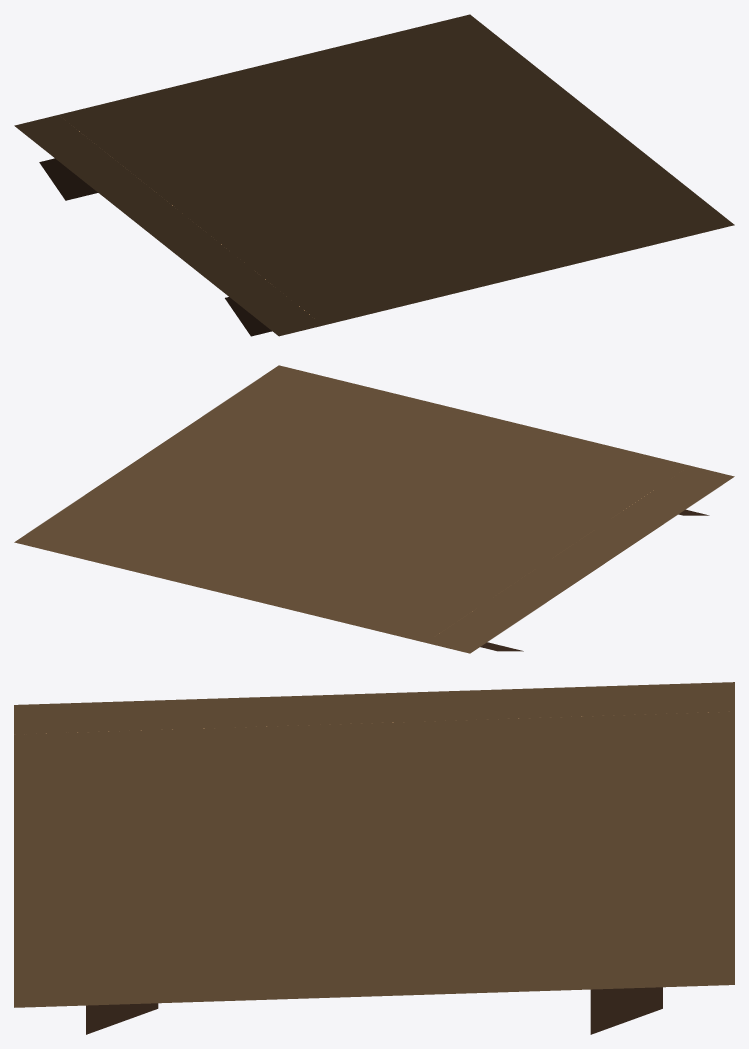
Rendered from floor_plank_lod1.glb.
3 views of the same model, one above another, from view 1: azimuth 30°, elevation 25°; view 2: azimuth 150°, elevation 25°; view 3: azimuth 270°, elevation 25° (orthographic). The views are drawn at different scales.
Bounding box in the file's own units: 2 × 0.15 × 2.
